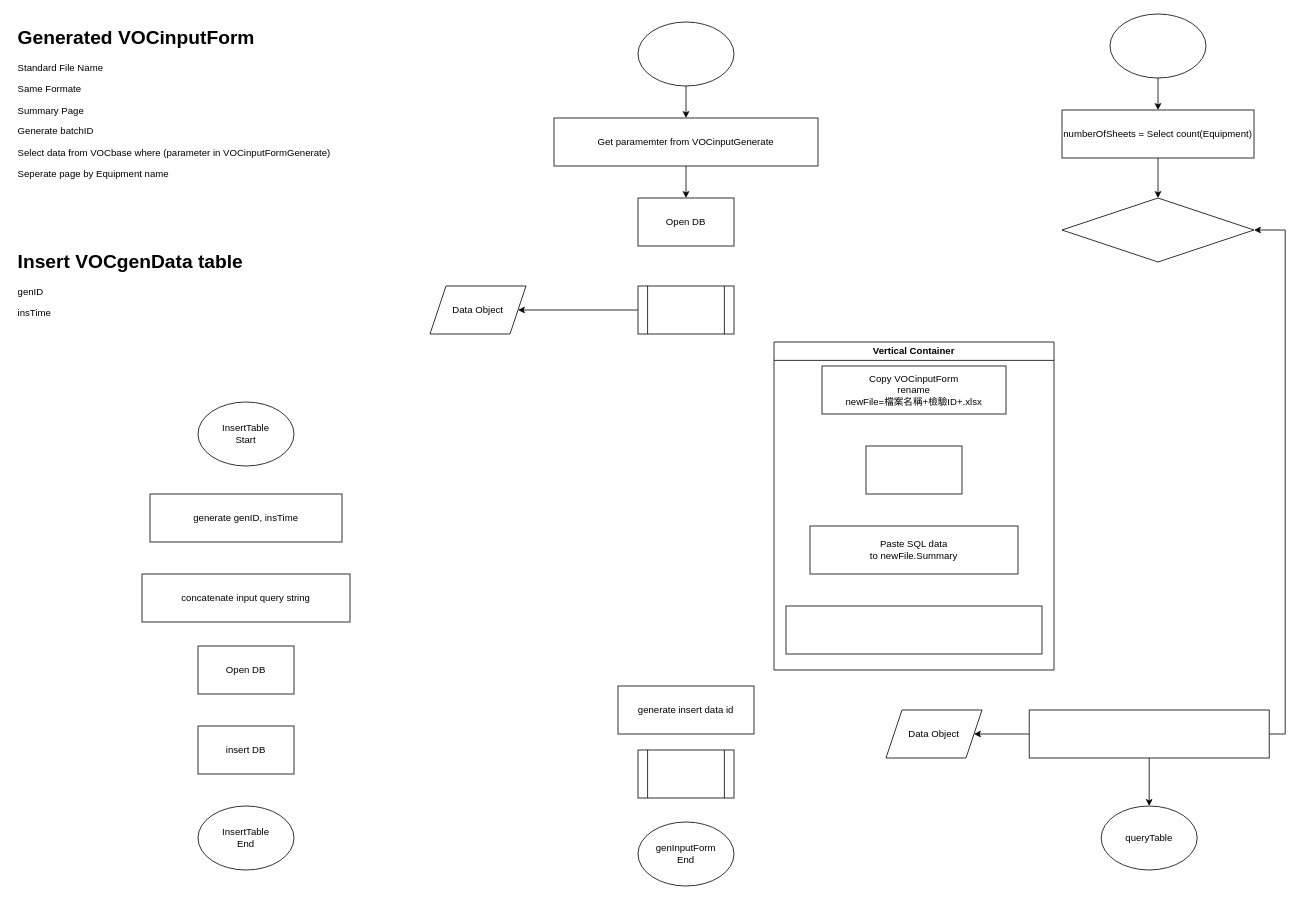
The diagram is 1306 pixels wide and 900 high, and some of its shapes have lost their labels. The shapes that lost their labels are listed below. From the top down, each one's centre as x and y in pixels, then its label:
At point (685, 53): "genInputForm Start".
At point (1157, 45): "queryTable start".
At point (1157, 229): "for i = i to numberOfSheets".
At point (685, 309): "queryTable Select VOCbase".
At point (913, 469): "generate batchID".
At point (913, 629): "Copy VOCinputFormGenerte.form to newFile".
At point (1148, 733): "Select componentID, type, fluid, content, lastDate from VOCbase wehre eqNo".
At point (685, 773): "Paste SQL data to VOCnewFile".
